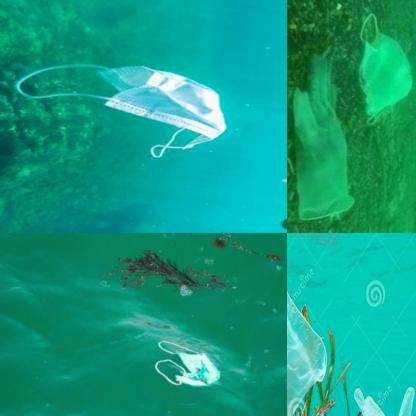Mask: (9, 62, 242, 156), (358, 11, 414, 127), (152, 338, 220, 388)
glove: (292, 52, 351, 224), (287, 275, 332, 416)
